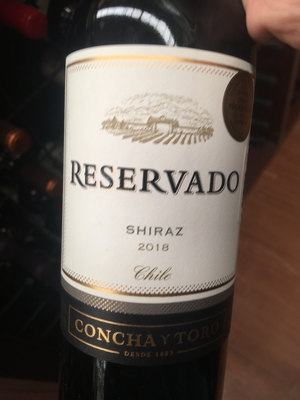reservado shiraz: (54, 12, 256, 400)
